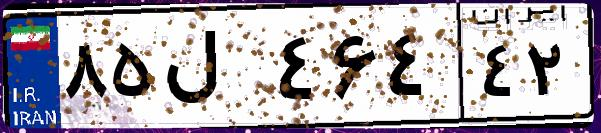2: (525, 38, 570, 115)
4: (270, 28, 330, 110), (385, 28, 445, 110), (475, 38, 525, 113)
5: (110, 28, 158, 98)
6: (330, 28, 385, 110)
8: (57, 26, 110, 100)
ل: (158, 20, 270, 120)
